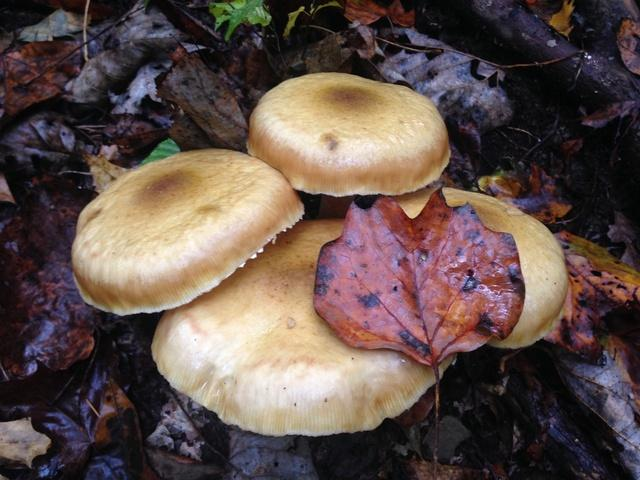edible_mushroom: (149, 217, 456, 437), (70, 146, 305, 316), (245, 70, 451, 204)
